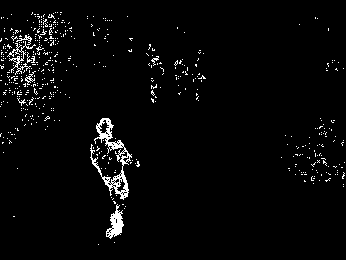person: (89, 116, 141, 238)
